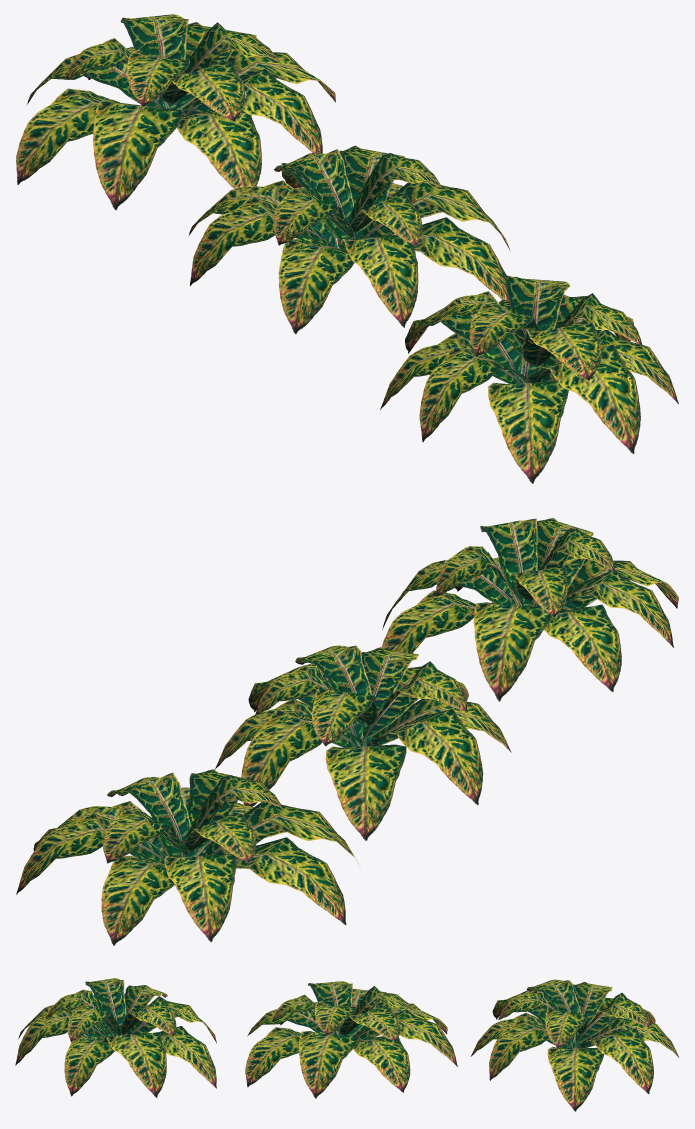
The model's file is forest original.fbx.
The picture shows the model from 3 angles, top to bottom: view 1: azimuth 30°, elevation 25°; view 2: azimuth 150°, elevation 25°; view 3: azimuth 270°, elevation 25°; orthographic projection. The views are drawn at different scales.
Visible parts, largest first — view 1: forest_original; view 2: forest_original; view 3: forest_original.
Part boxes in pixels (x1,y1,x2,y2): forest_original: (16, 14, 678, 483); forest_original: (16, 518, 678, 945); forest_original: (15, 978, 679, 1111).
Bounding box in the file's own units: 112 × 37.63 × 311.
Materials: 1 (1 with a texture image).
